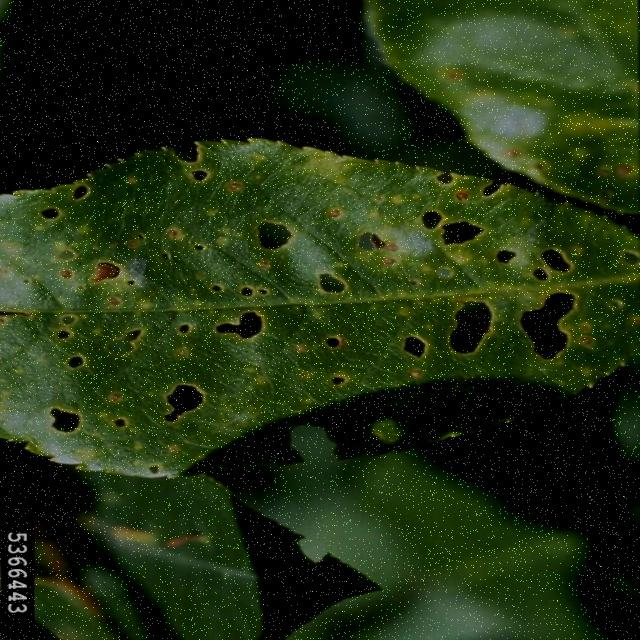shot_hole: (284, 2, 586, 609)
